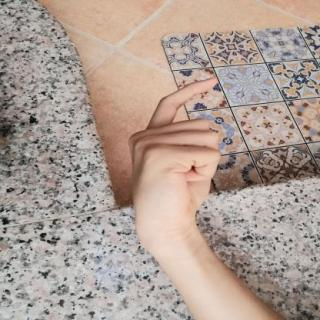RAA: (120, 70, 229, 246)
